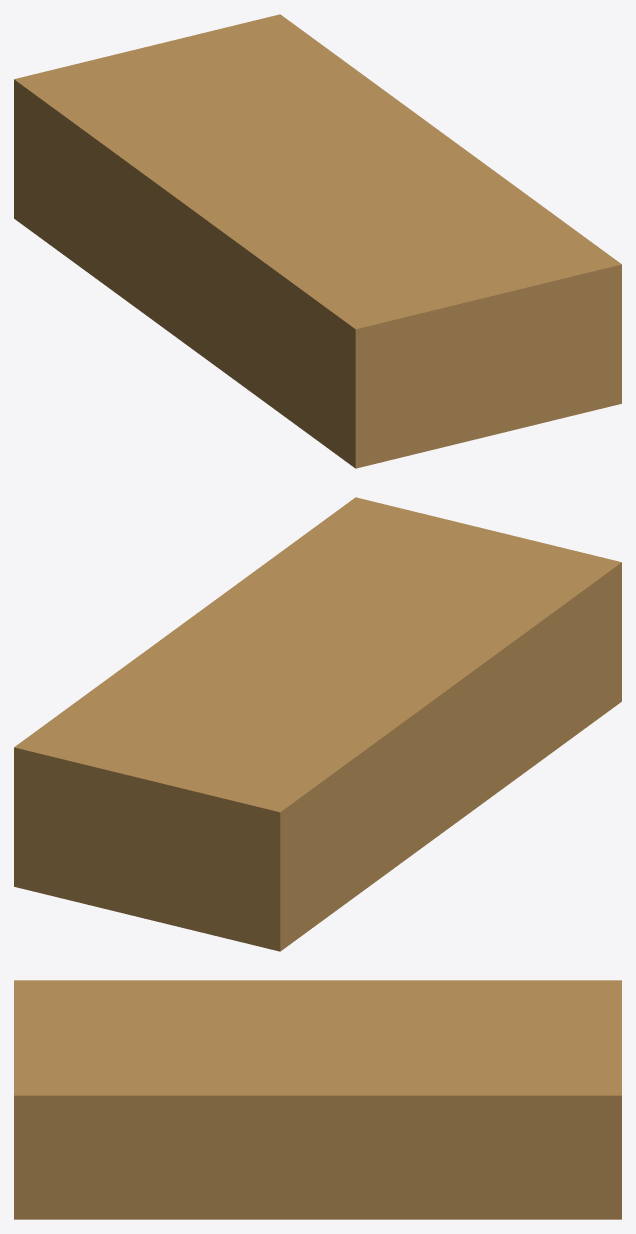
3 views of the same model, one above another, from view 1: azimuth 30°, elevation 25°; view 2: azimuth 150°, elevation 25°; view 3: azimuth 270°, elevation 25° (orthographic). The views are drawn at different scales.
Parts seen in each view (by area): view 1: RUN-036-S01-bottom_plate; view 2: RUN-036-S01-bottom_plate; view 3: RUN-036-S01-bottom_plate.
Part boxes in pixels (x1,y1,x2,y2): RUN-036-S01-bottom_plate: (14,14,621,468); RUN-036-S01-bottom_plate: (14,497,621,951); RUN-036-S01-bottom_plate: (14,980,621,1219).
Size of the model in its own units: 0.09 by 0.045 by 0.2.
